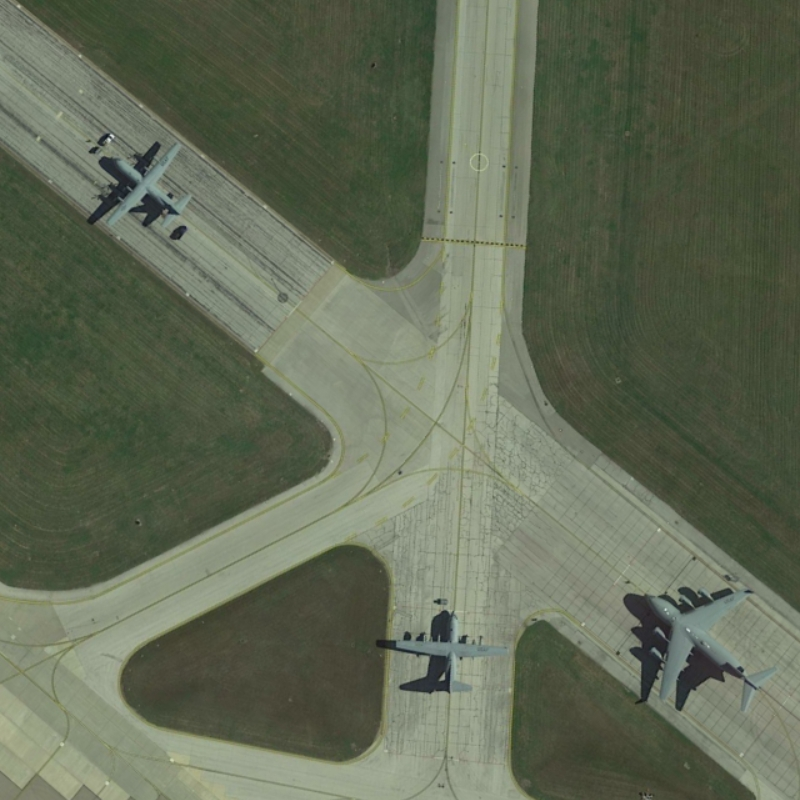A2: (380, 602, 510, 701), (91, 133, 197, 237)
A3: (633, 573, 784, 718)
